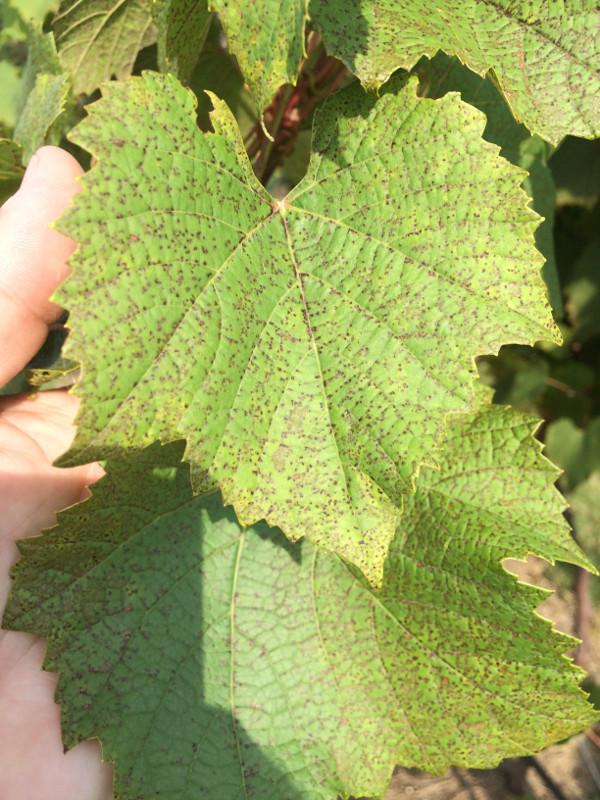downy: (151, 201, 405, 455), (320, 587, 497, 764), (417, 208, 549, 340), (443, 448, 552, 557), (102, 98, 197, 193), (316, 106, 407, 197), (66, 297, 148, 379), (414, 122, 491, 199), (75, 211, 148, 284), (407, 345, 479, 417), (78, 387, 145, 454), (510, 631, 574, 695), (335, 467, 396, 528), (264, 463, 323, 522), (508, 705, 553, 750), (348, 534, 387, 573), (211, 460, 248, 497)
